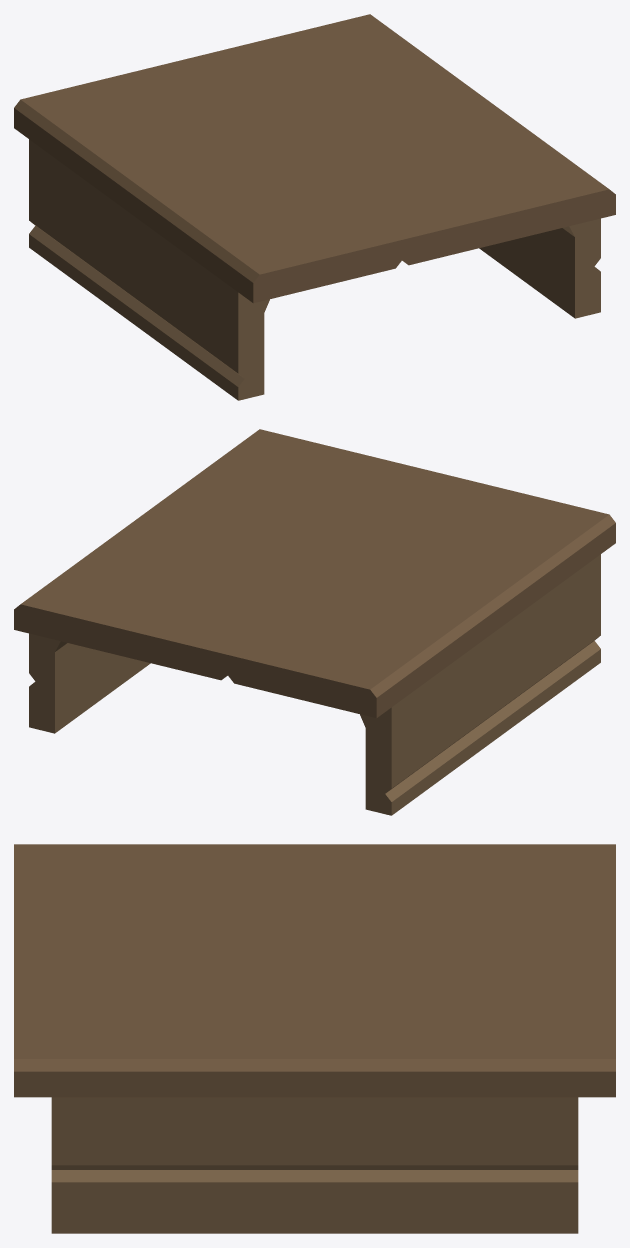
File: table.glb
The picture shows the model from 3 angles, top to bottom: view 1: azimuth 30°, elevation 25°; view 2: azimuth 150°, elevation 25°; view 3: azimuth 270°, elevation 25°; orthographic projection. The views are drawn at different scales.
Parts seen in each view (by area): view 1: generated(Clone); view 2: generated(Clone); view 3: generated(Clone).
Boxes of the visible parts, bbox=[...] form: generated(Clone): bbox=[14, 14, 615, 400]; generated(Clone): bbox=[14, 429, 615, 815]; generated(Clone): bbox=[14, 844, 615, 1233].
Size of the model in its own units: 14 by 5 by 16.
Materials: 1 (1 with a texture image).
